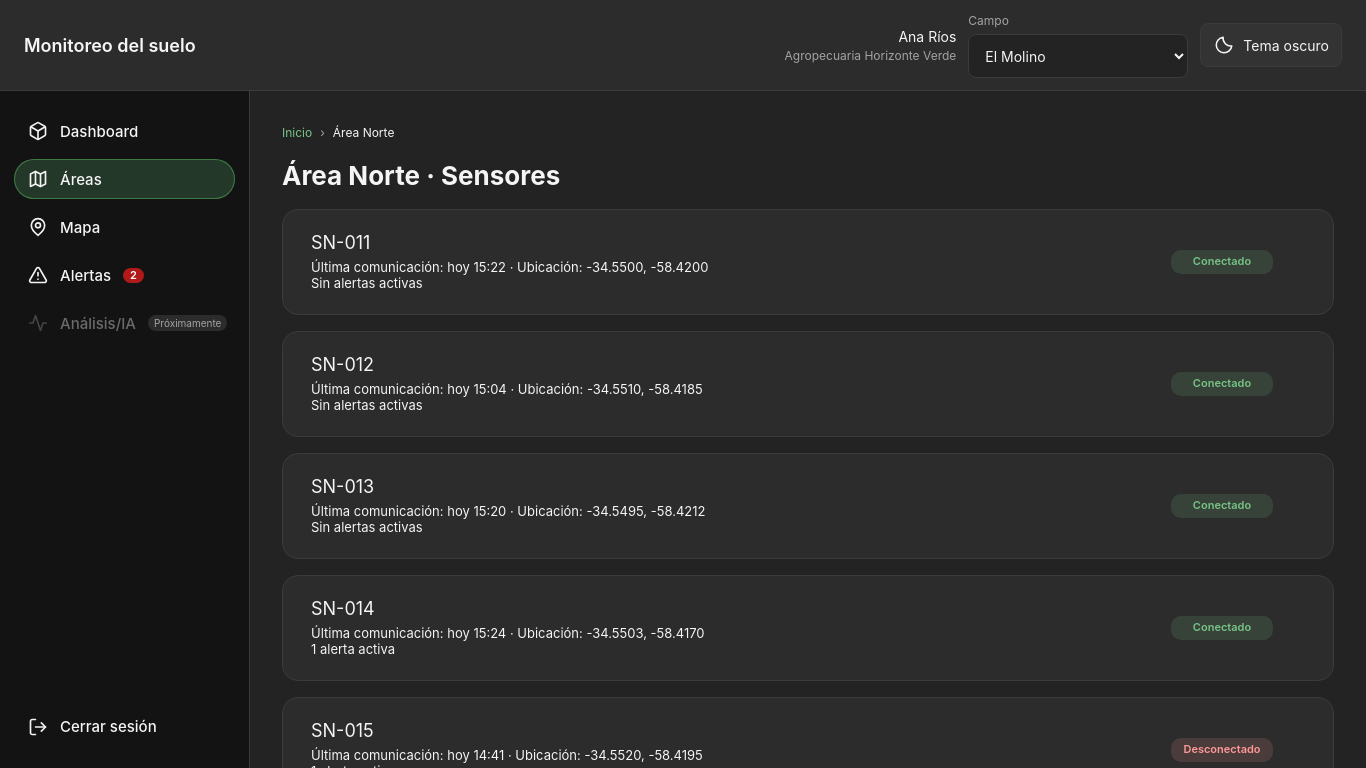
it: Dashboard y Áreas con el selector real › el detalle se invalida al seleccionar un campo al que el área no pertenece
Expected: the link "SN-015" is shown, [282, 697, 1334, 767]
Select "La Esperanza" in the dropdown labelled "Campo": (1078,56) [968, 34, 1188, 78]
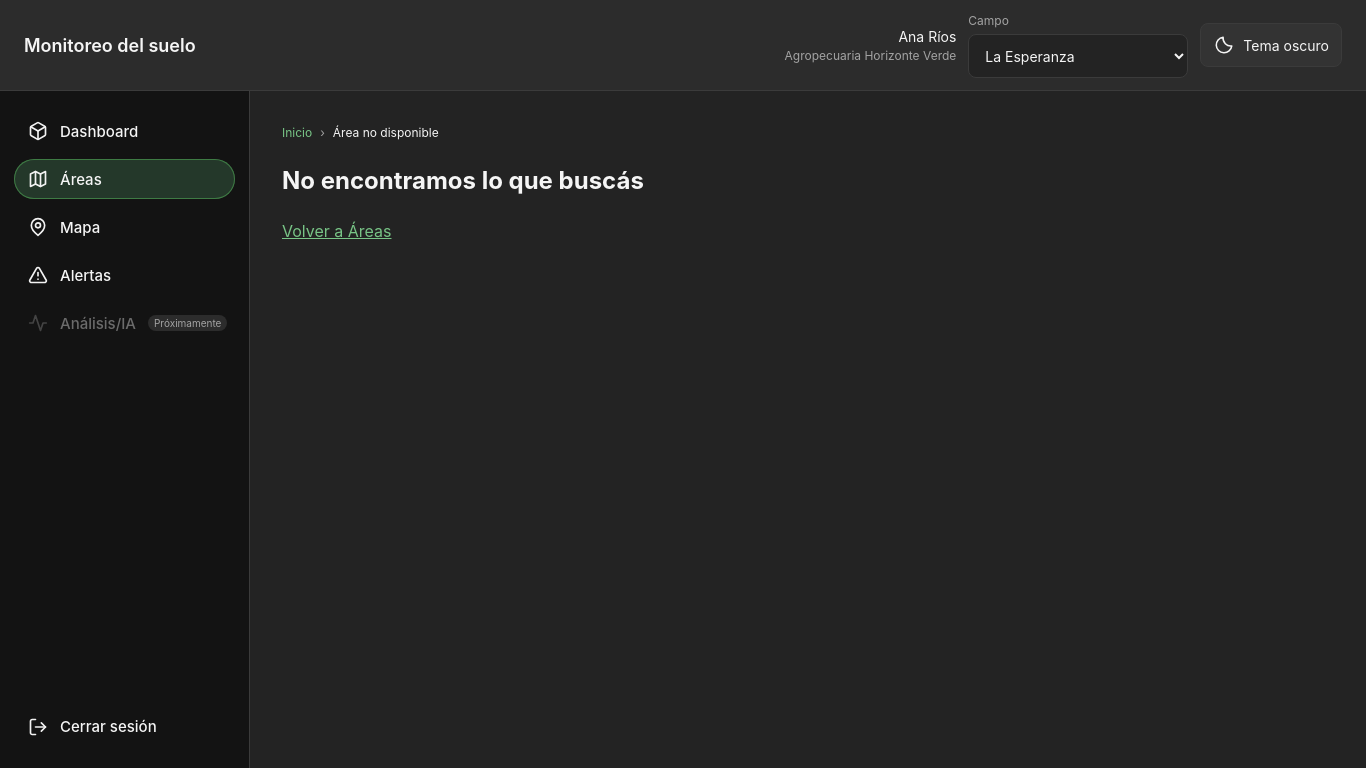
Now the link "SN-015" is gone
Now the heading "No encontramos lo que buscás" is shown, box [282, 166, 644, 195]
Now the heading "Área Norte · Sensores" is gone
